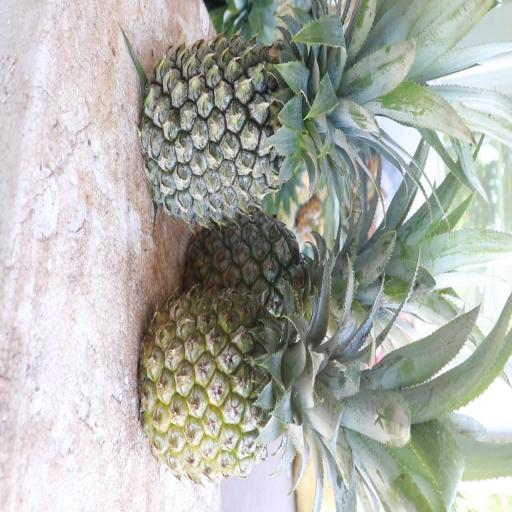------------------------------: (137, 277, 375, 487), (181, 206, 381, 348)
